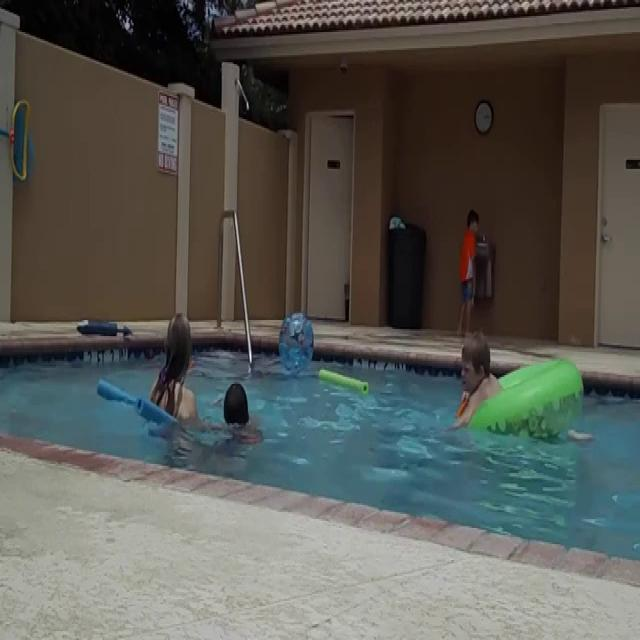adult: (154, 315, 204, 442)
child: (450, 332, 596, 458), (456, 206, 483, 332), (224, 379, 260, 454)
